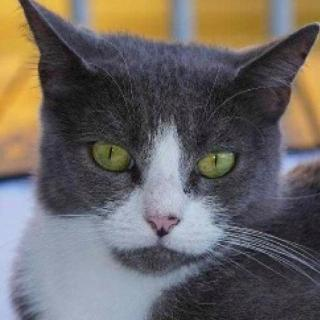cat: (13, 0, 320, 289)
nose: (139, 194, 186, 238)
